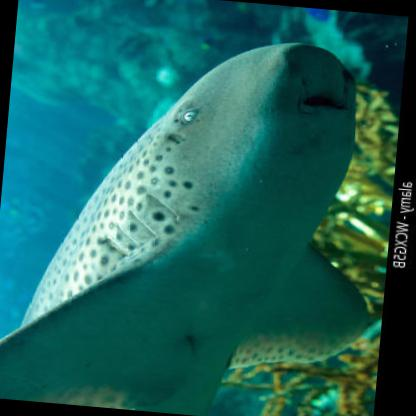zebra_shark: (0, 10, 400, 415)
